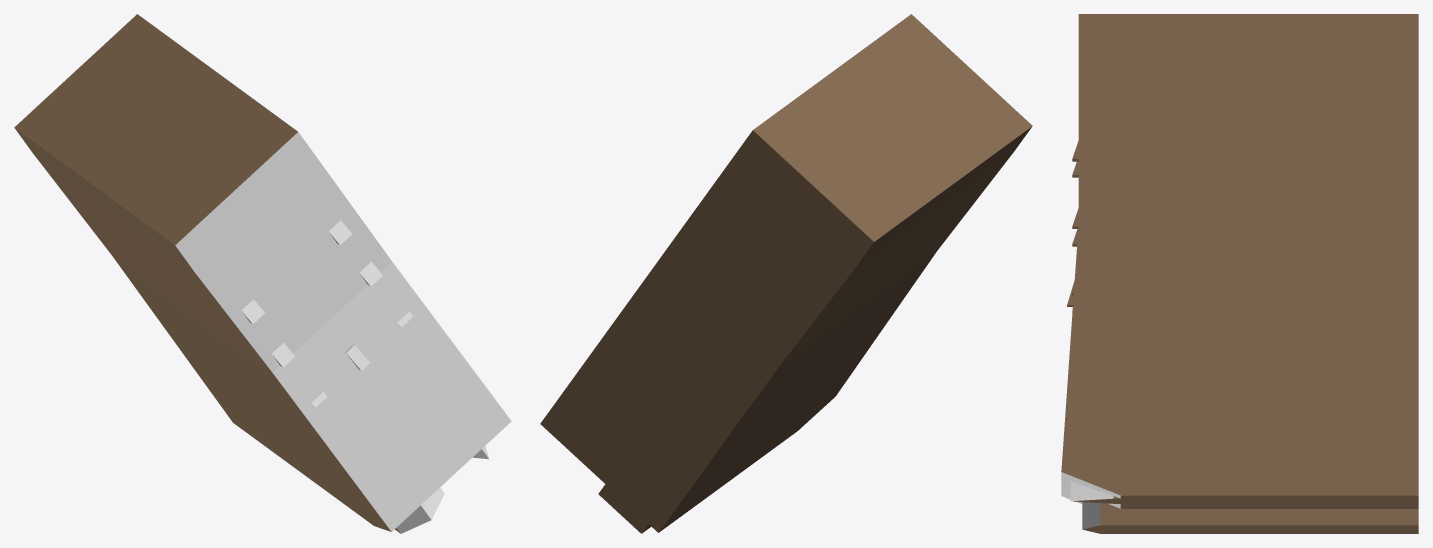
3 renders of one model, left to right at view 1: azimuth 30°, elevation 25°; view 2: azimuth 150°, elevation 25°; view 3: azimuth 270°, elevation 25°, orthographic. The views are drawn at different scales.
Visible parts, largest first — view 1: City_PC-08608; view 2: City_PC-08608; view 3: City_PC-08608.
Boxes of the visible parts, x1,y1,x2,y2 form: City_PC-08608: [14, 14, 511, 533]; City_PC-08608: [540, 14, 1032, 533]; City_PC-08608: [1061, 14, 1418, 533].
Bounding box in the file's own units: 1746 × 2153 × 1510.
